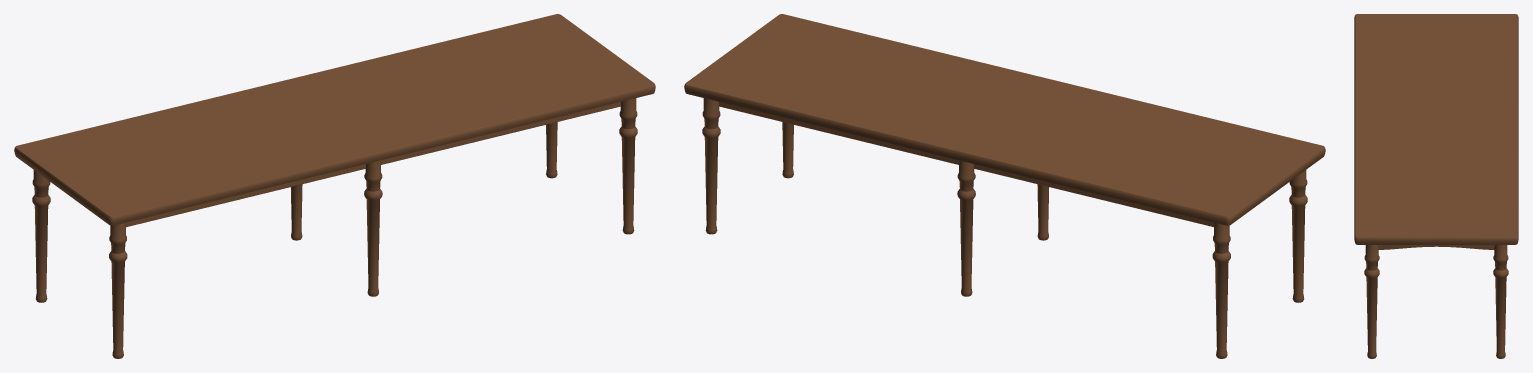
File: tableDining6.glb
3 views of the same model, side by side, from view 1: azimuth 30°, elevation 25°; view 2: azimuth 150°, elevation 25°; view 3: azimuth 270°, elevation 25° (orthographic). The views are drawn at different scales.
Parts seen in each view (by area): view 1: tableDining6; view 2: tableDining6; view 3: tableDining6.
Part boxes in pixels (x1,y1,x2,y2): tableDining6: (14, 14, 655, 358); tableDining6: (684, 14, 1325, 358); tableDining6: (1354, 14, 1518, 358).
Bounding box in the file's own units: 2.84 × 0.75 × 0.88.
